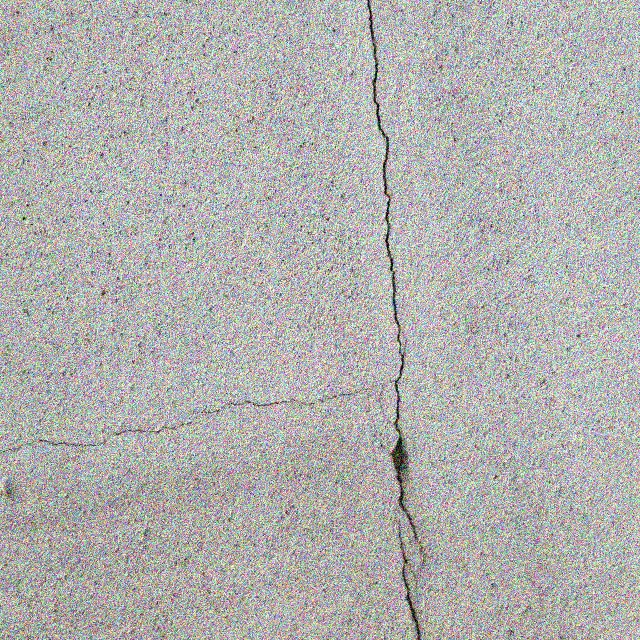SurfaceCrack: (324, 1, 466, 640)
